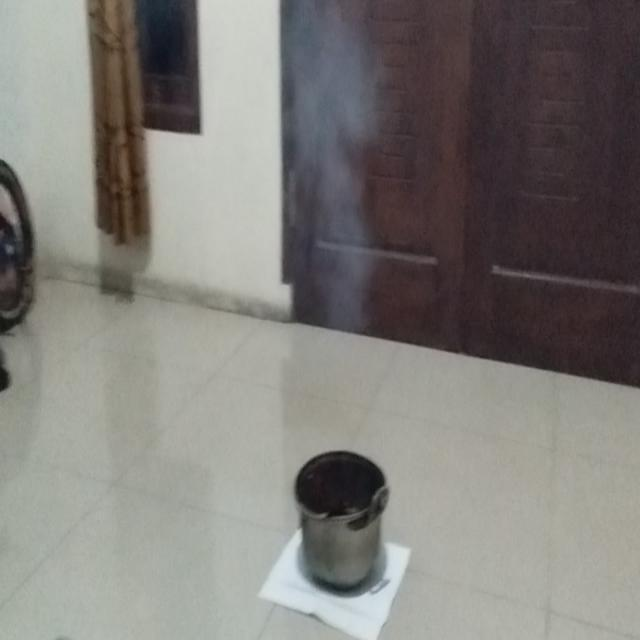fire: (273, 0, 381, 315)
